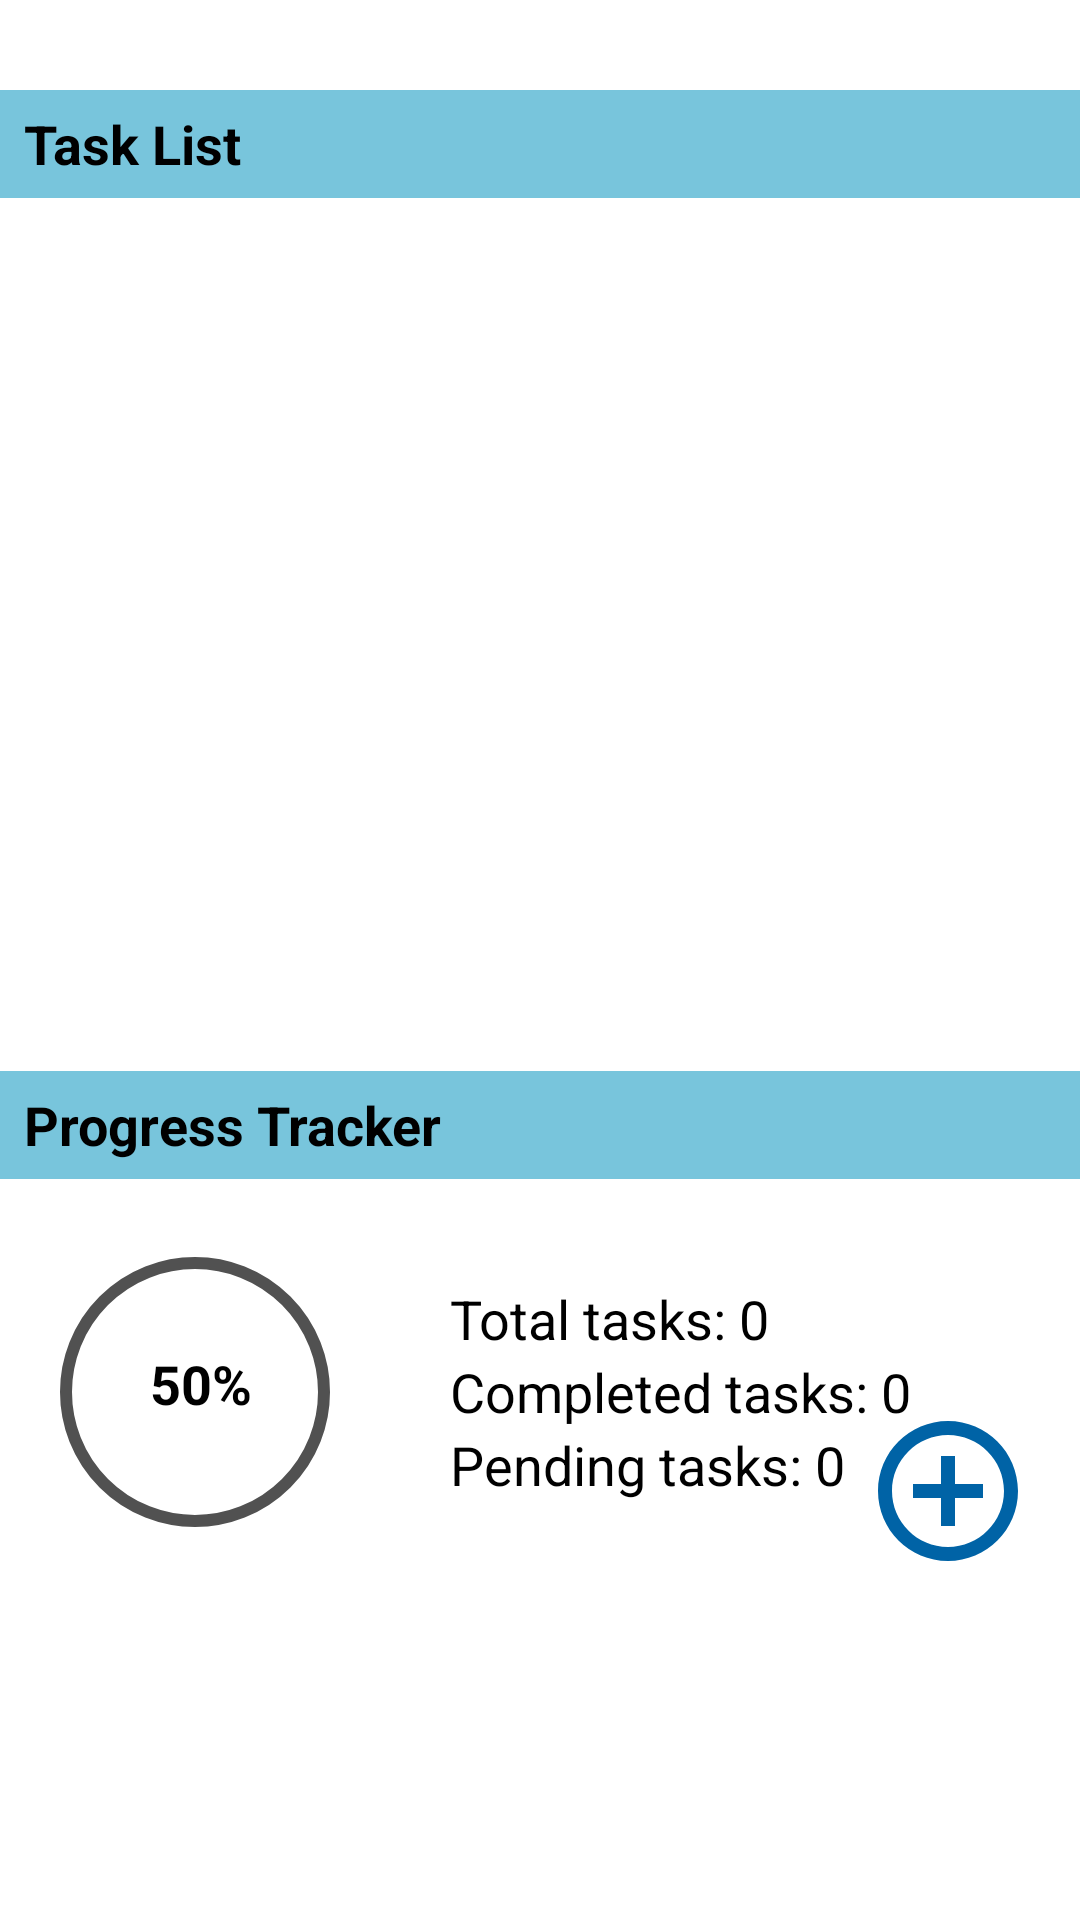

Icon click points for this 1080 × 1920 phone screenshot, format (x,y):
Add Task: (948,1491)
